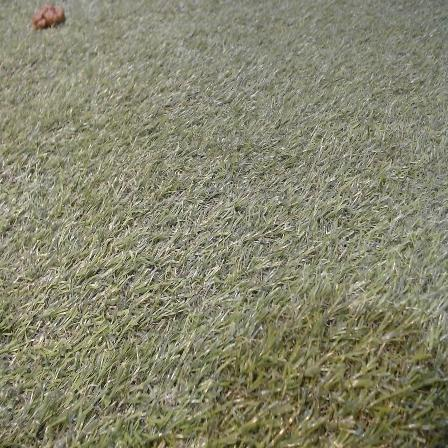dog-poop: (30, 4, 68, 33)
